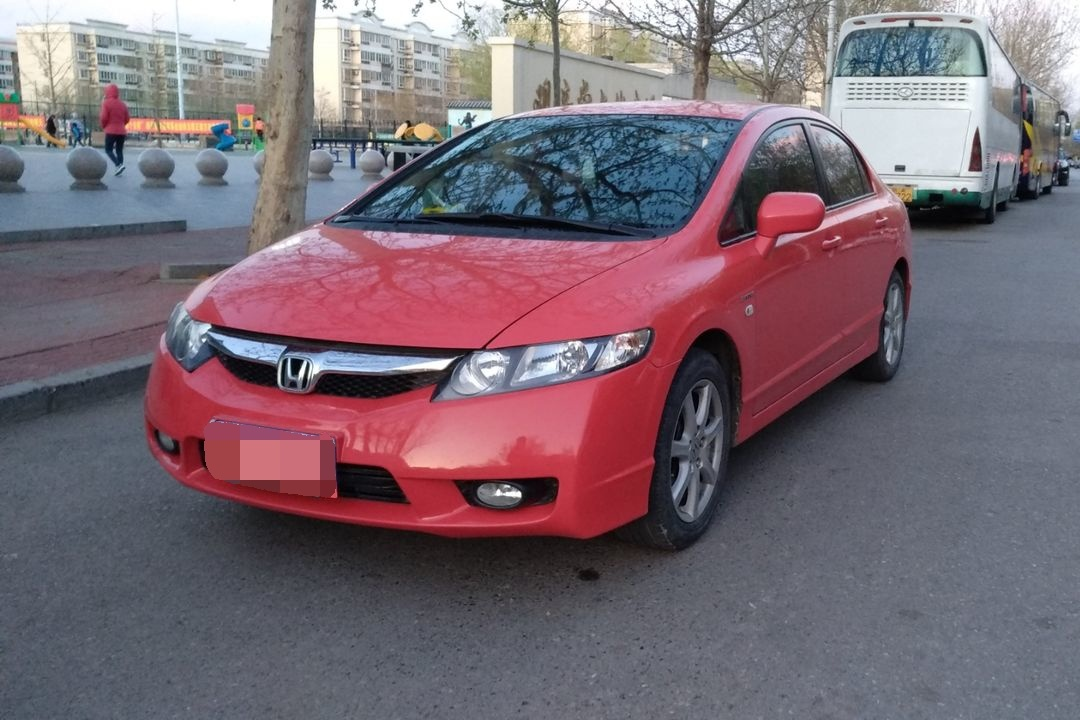family sedan: (156, 112, 953, 543)
